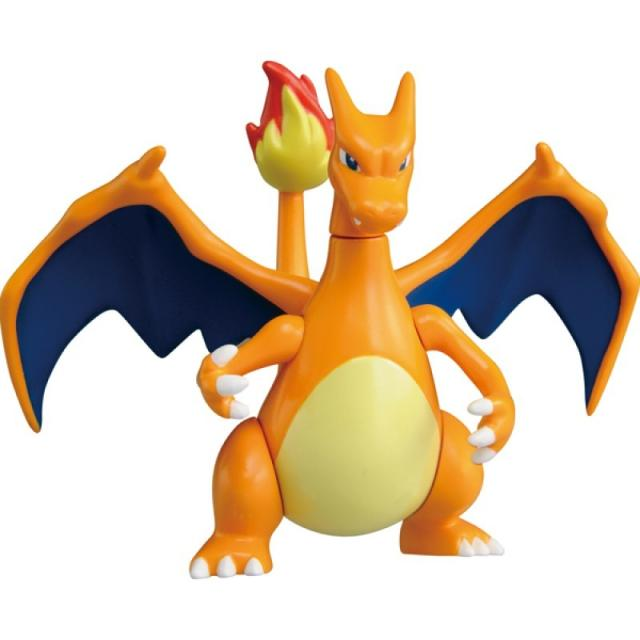Charizard: (146, 63, 530, 574)
